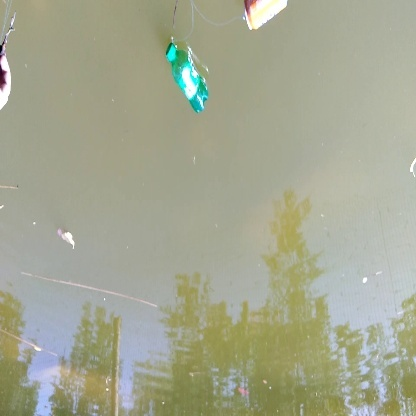bottle: (161, 37, 220, 116)
